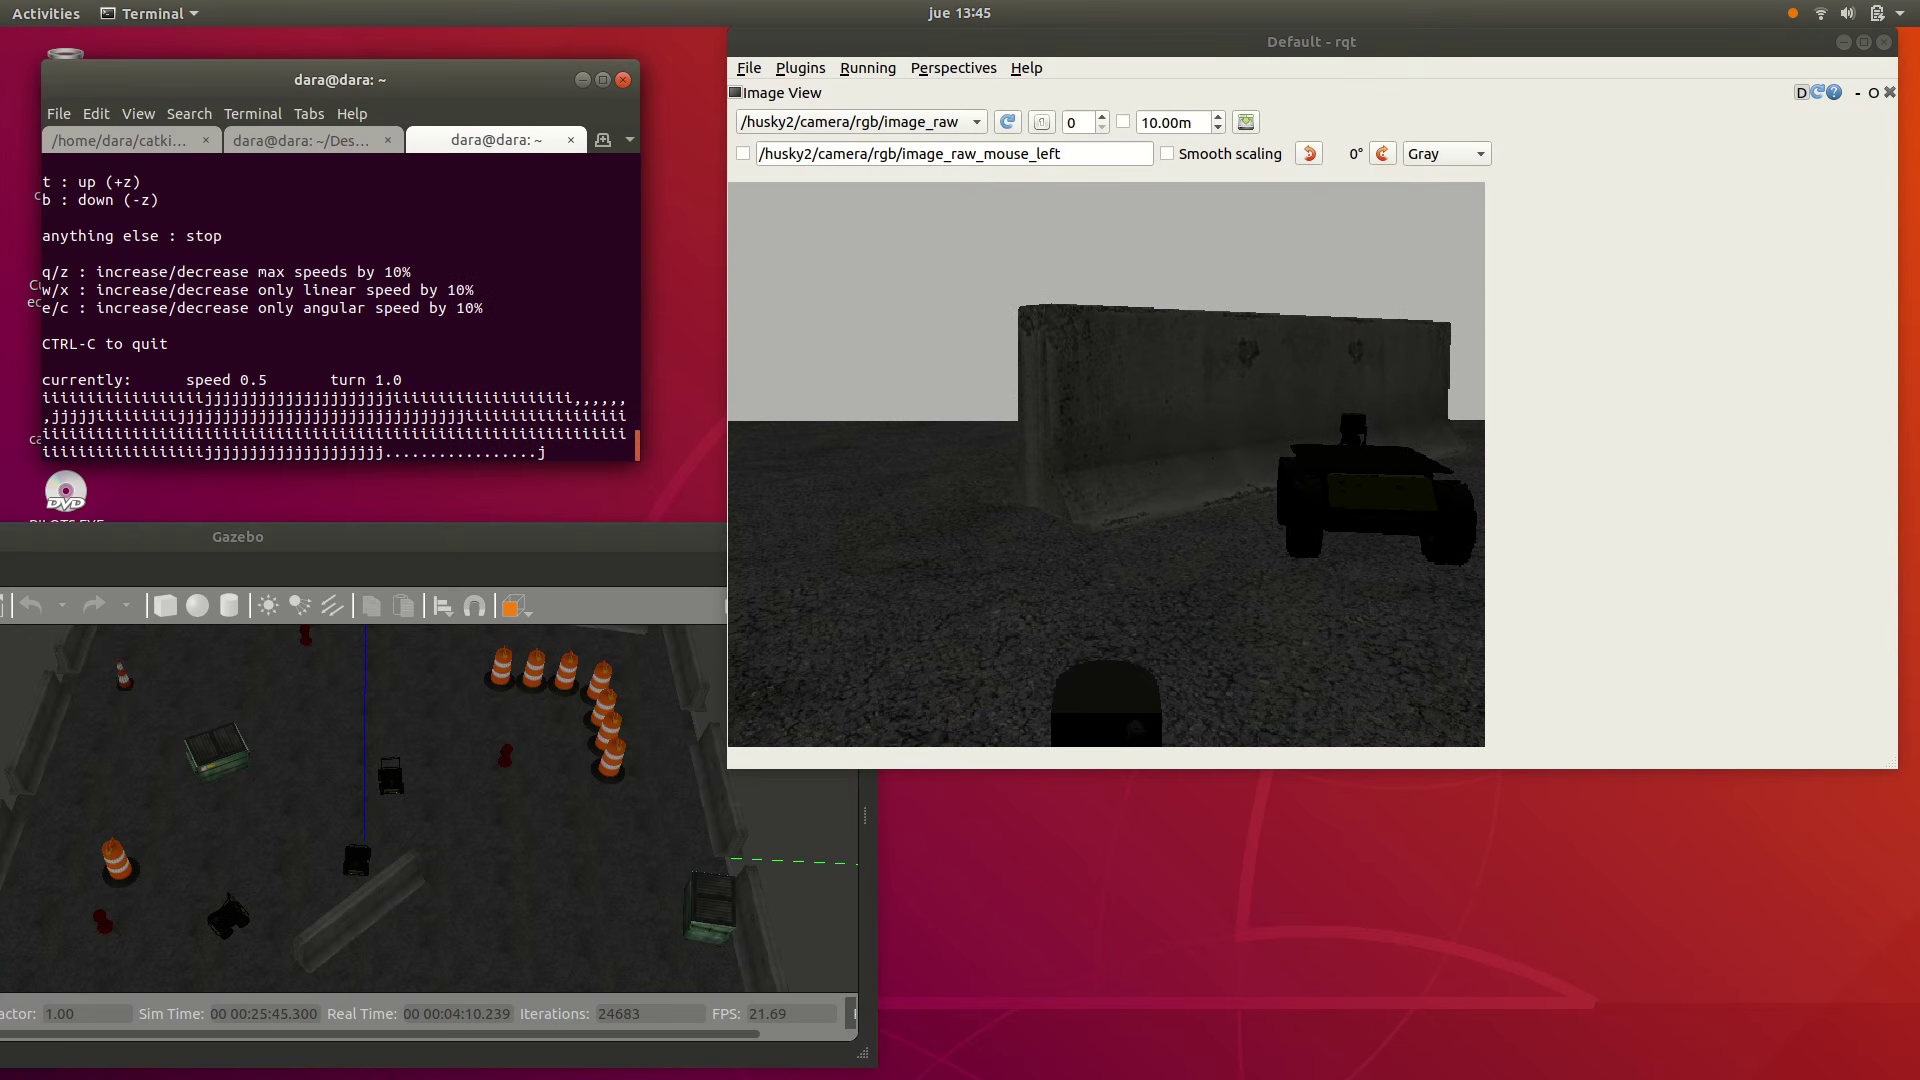husky: (1278, 443, 1477, 565), (207, 901, 250, 939), (343, 843, 371, 878), (378, 766, 404, 796)
